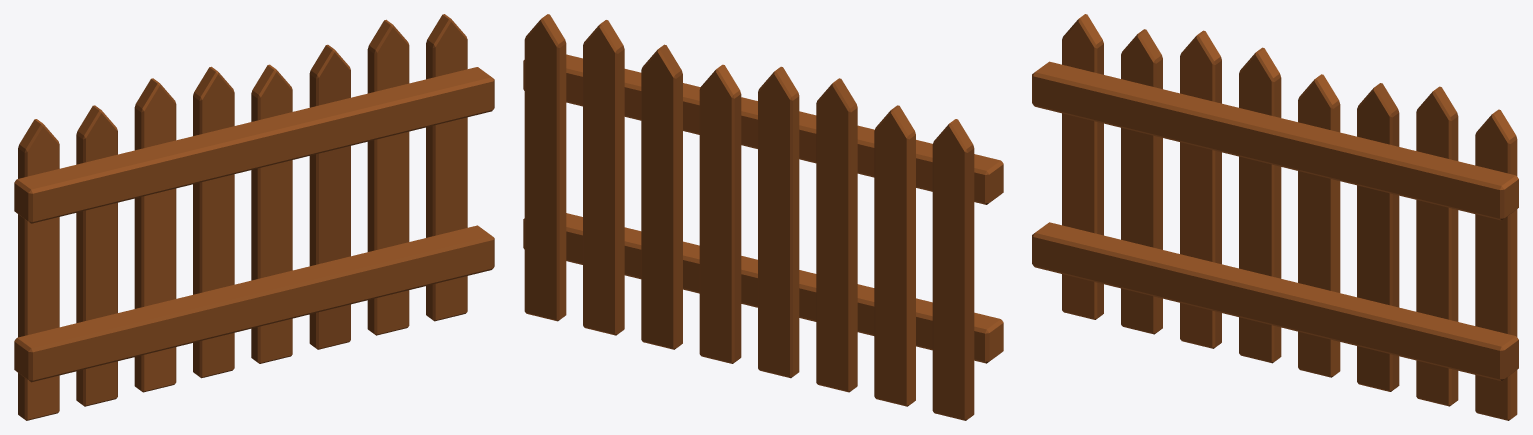
File: D03_Fence_Pickets_2m.fbx
3 views of the same model, side by side, from view 1: azimuth 30°, elevation 25°; view 2: azimuth 150°, elevation 25°; view 3: azimuth 330°, elevation 25° (orthographic).
Visible parts, largest first — view 1: D03_Fence_Pickets_2m; view 2: D03_Fence_Pickets_2m; view 3: D03_Fence_Pickets_2m.
Part boxes in pixels (x1,y1,x2,y2): D03_Fence_Pickets_2m: (14, 14, 494, 420); D03_Fence_Pickets_2m: (523, 14, 1003, 420); D03_Fence_Pickets_2m: (1032, 14, 1518, 420).
Bounding box in the file's own units: 2 × 1.26 × 0.1925.
1 material, 1 textured.
